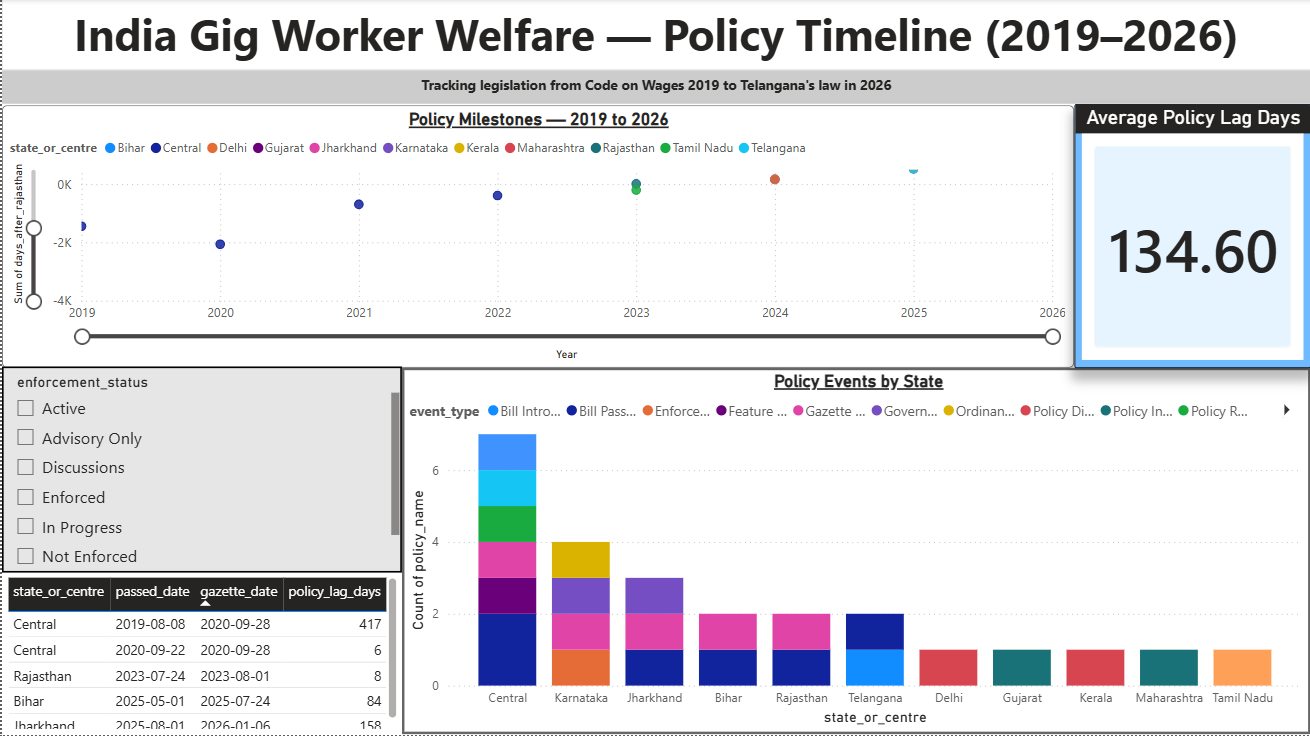

The page's visual inventory and layout, read from the dashboard file:
{"tool":"powerbi","page":{"name":"Policy Timeline","canvas":[1280,720],"ordinal":1},"visuals":[{"type":"lineStackedColumnComboChart","title":"Policy Events by State","fields":{"Category":["policy_timeline.state_or_centre"],"Y":["CountNonNull(policy_timeline.policy_name)"],"Series":["policy_timeline.event_type"]},"box":[391.3,360.7,889,358.3],"z":0},{"type":"textbox","box":[0,0,1280.3,69.6],"z":1000},{"type":"textbox","box":[0,69.6,1280.3,32.6],"z":2000},{"type":"scatterChart","title":"Policy Milestones — 2019 to 2026","fields":{"Series":["policy_timeline.state_or_centre"],"Y":["Sum(policy_timeline.days_after_rajasthan)"],"X":["policy_timeline.event_date.Variation.Date Hierarchy.Year","policy_timeline.event_date.Variation.Date Hierarchy.Quarter","policy_timeline.event_date.Variation.Date Hierarchy.Month","policy_timeline.event_date.Variation.Date Hierarchy.Day"]},"box":[0,103.6,1048.6,257.1],"z":3000},{"type":"tableEx","fields":{"Values":["policy_lag.state_or_centre","policy_lag.passed_date","policy_lag.gazette_date","policy_lag.policy_lag_days"]},"box":[0,561.3,391.3,157.7],"z":4000},{"type":"slicer","fields":{"Values":["policy_timeline.enforcement_status"]},"box":[0,360,391.2,201.2],"z":5000},{"type":"cardVisual","title":"Average Policy Lag Days","fields":{"Data":["Avg(policy_lag.policy_lag_days)"]},"box":[1049,103,231,258],"z":6000}]}

Visuals, with their boxes in screenshot pixels (x1, y1, x2, y2), scaled from the page's 1280x720 canvas onto the 1310x737 screenshot:
"Policy Events by State" lineStackedColumnComboChart: Rect(400, 369, 1309, 736)
textbox: Rect(0, 0, 1309, 71)
textbox: Rect(0, 71, 1309, 105)
"Policy Milestones — 2019 to 2026" scatterChart: Rect(0, 106, 1073, 369)
tableEx - policy_lag.state_or_centre x policy_lag.passed_date: Rect(0, 575, 400, 736)
slicer - policy_timeline.enforcement_status: Rect(0, 368, 400, 574)
"Average Policy Lag Days" cardVisual: Rect(1074, 105, 1309, 370)
